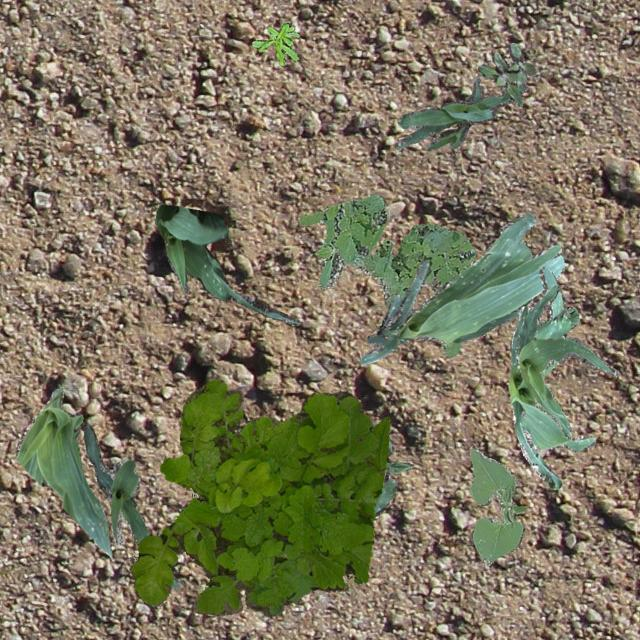crop: (358, 212, 564, 364), (508, 264, 594, 488), (154, 204, 298, 324), (15, 386, 111, 558), (82, 424, 178, 588), (514, 284, 616, 436), (394, 76, 526, 150), (468, 446, 524, 564), (372, 441, 412, 516), (538, 306, 578, 328)
weed: (128, 378, 390, 616), (298, 194, 474, 356), (478, 42, 536, 104), (250, 22, 298, 64)
